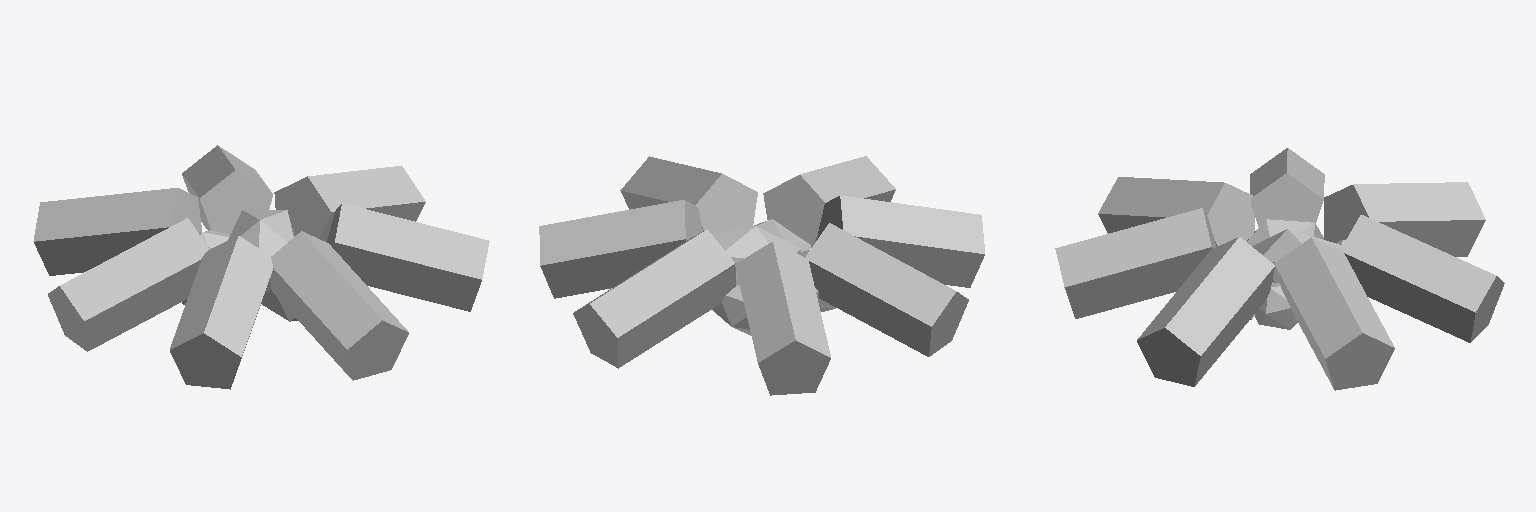
File: campfire.obj
The picture shows the model from 3 angles: view 1: azimuth 30°, elevation 25°; view 2: azimuth 150°, elevation 25°; view 3: azimuth 270°, elevation 25°; orthographic projection.
Visible parts, largest first — view 1: Cylinder.001; view 2: Cylinder.001; view 3: Cylinder.001.
Boxes of the visible parts, x1,y1,x2,y2 form: Cylinder.001: [33, 145, 489, 389]; Cylinder.001: [539, 156, 984, 395]; Cylinder.001: [1055, 148, 1504, 390].
Bounding box in the file's own units: 1.92 × 0.4922 × 1.94.